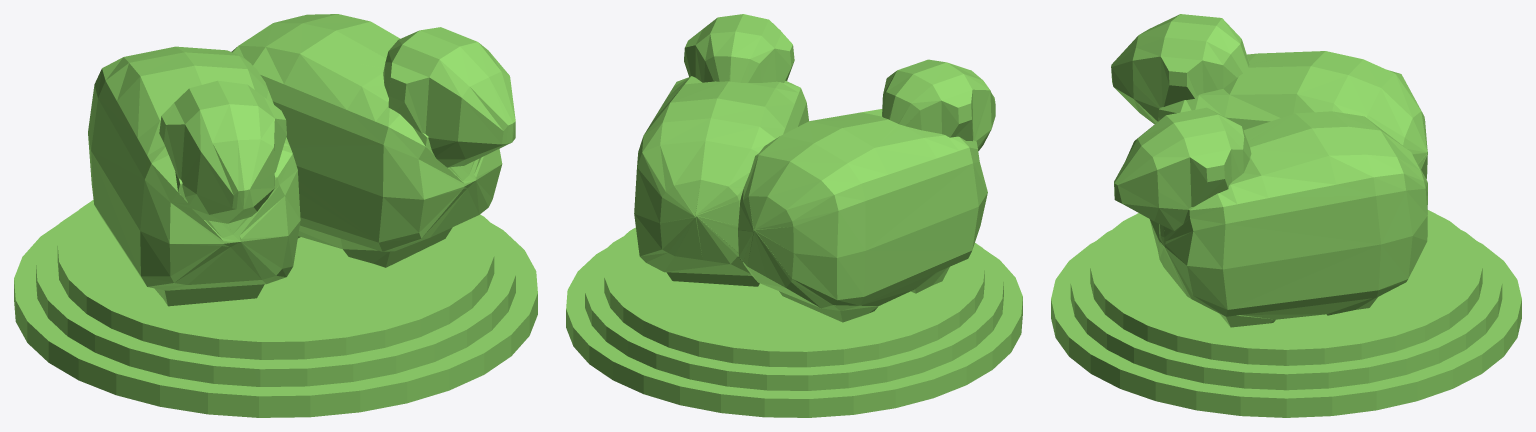
File: harbor_wool.glb
3 views of the same model, side by side, from view 1: azimuth 30°, elevation 25°; view 2: azimuth 150°, elevation 25°; view 3: azimuth 270°, elevation 25° (orthographic). The views are drawn at different scales.
Visible parts, largest first — view 1: harbor_wool; view 2: harbor_wool; view 3: harbor_wool.
Part boxes in pixels (left/top/right/bottom): harbor_wool: left=14, top=14, right=537, bottom=417; harbor_wool: left=566, top=14, right=1022, bottom=417; harbor_wool: left=1051, top=14, right=1521, bottom=417.
Bounding box in the file's own units: 12 × 7.03 × 12.
